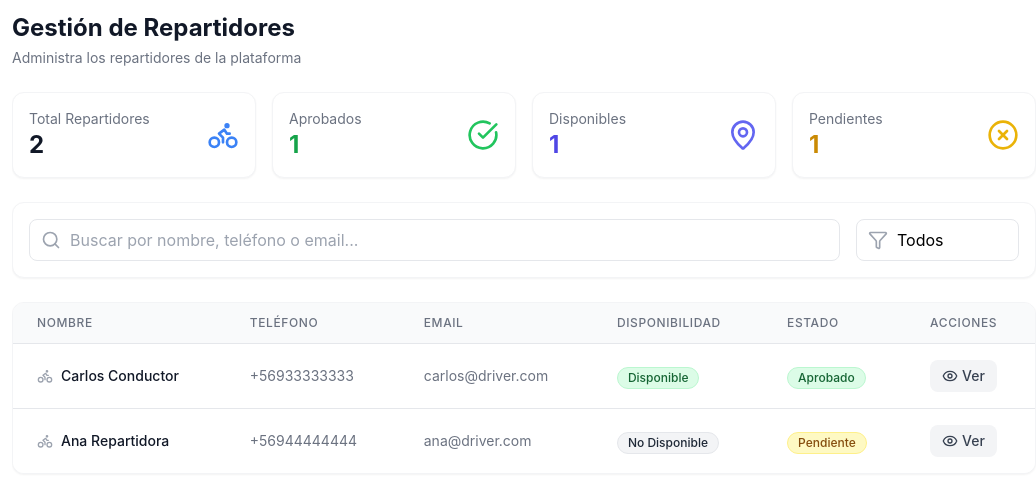
Test: Drivers Component › Filtros › debe filtrar repartidores aprobados
The image size is (1036, 491).
expect the text "Carlos Conductor" is shown: met, box x1=61 y1=366 x2=179 y2=386
Select "Aprobados" in the dropdown. click: (938, 240)
box: x1=856 y1=219 x2=1019 y2=261
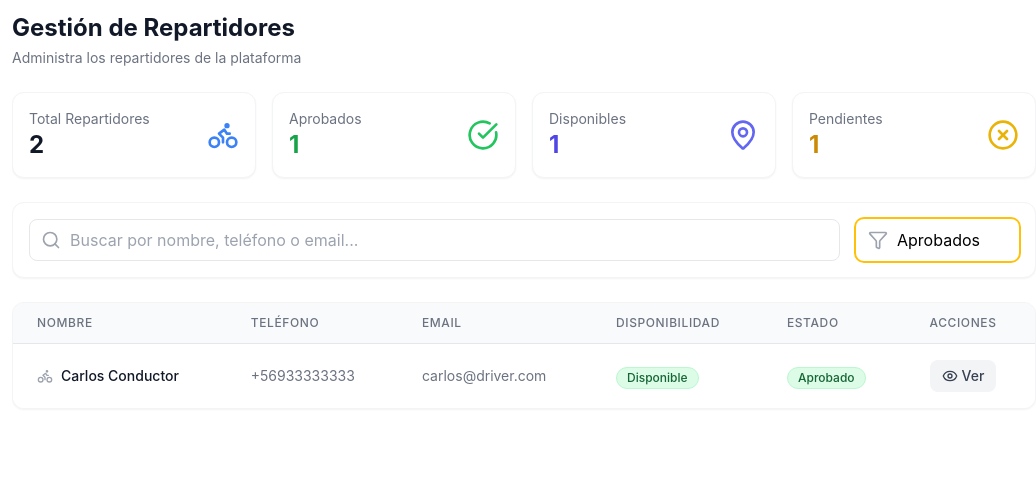
expect the text "Carlos Conductor" is shown: met, box x1=61 y1=366 x2=179 y2=386
expect the text "Ana Repartidora" is gone: met
